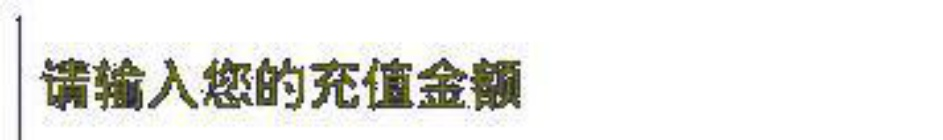EditText: (1, 1, 942, 139)
